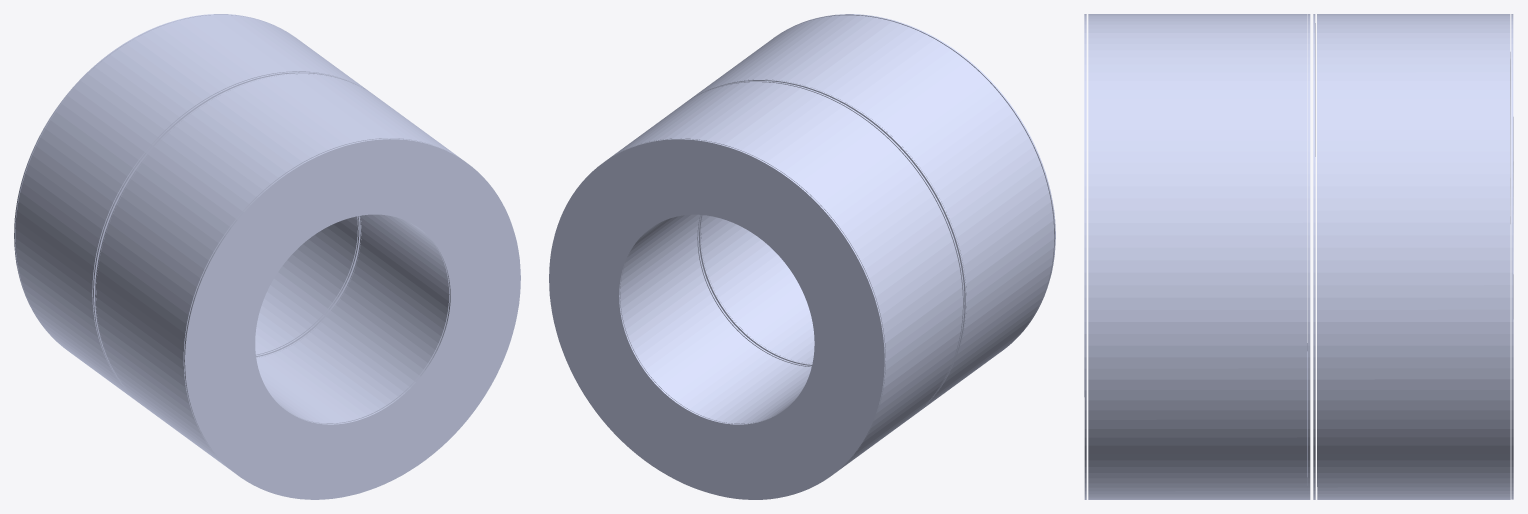
The model's file is TRT-SideA.glb.
The picture shows the model from 3 angles, left to right: view 1: azimuth 30°, elevation 25°; view 2: azimuth 150°, elevation 25°; view 3: azimuth 270°, elevation 25°; orthographic projection. The views are drawn at different scales.
Parts seen in each view (by area): view 1: null; view 2: null; view 3: null.
Boxes of the visible parts, x1=… form: null: x1=14, y1=14, x2=520, y2=499; null: x1=549, y1=14, x2=1055, y2=499; null: x1=1084, y1=14, x2=1513, y2=499.
Bounding box in the file's own units: 2.14 × 2.13 × 1.89.
